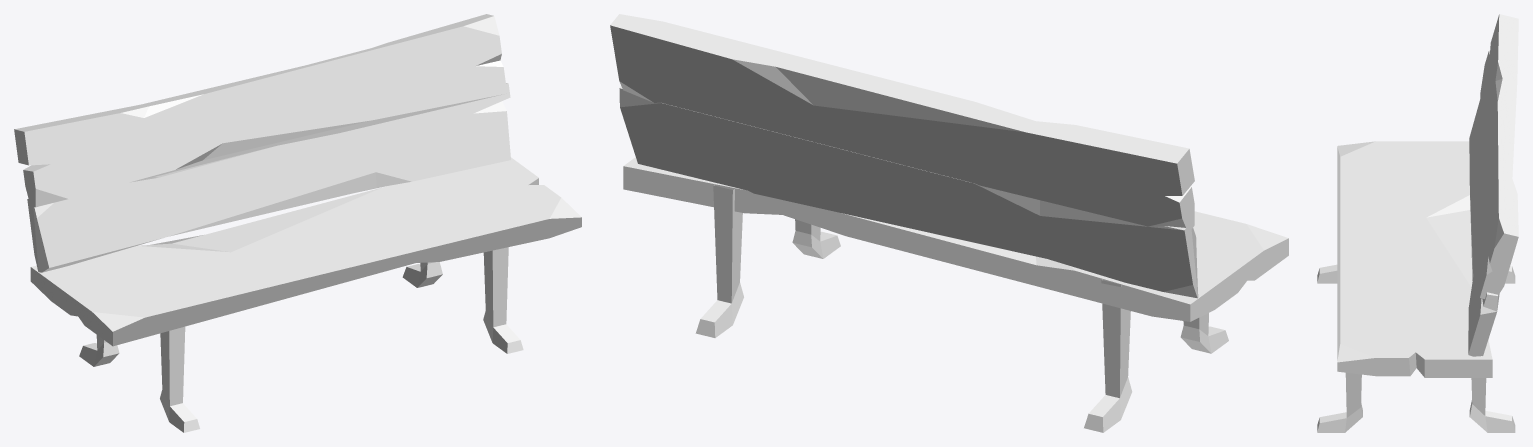
File: Bench.fbx
3 views of the same model, side by side, from view 1: azimuth 30°, elevation 25°; view 2: azimuth 150°, elevation 25°; view 3: azimuth 270°, elevation 25° (orthographic). The views are drawn at different scales.
Visible parts, largest first — view 1: SM_Prop_Bench_01; view 2: SM_Prop_Bench_01; view 3: SM_Prop_Bench_01.
Part boxes in pixels (bbox=[...]): SM_Prop_Bench_01: bbox=[14, 14, 581, 432]; SM_Prop_Bench_01: bbox=[610, 14, 1288, 432]; SM_Prop_Bench_01: bbox=[1317, 14, 1518, 432].
Size of the model in its own units: 633 by 312 by 245.
1 material, 1 textured.
